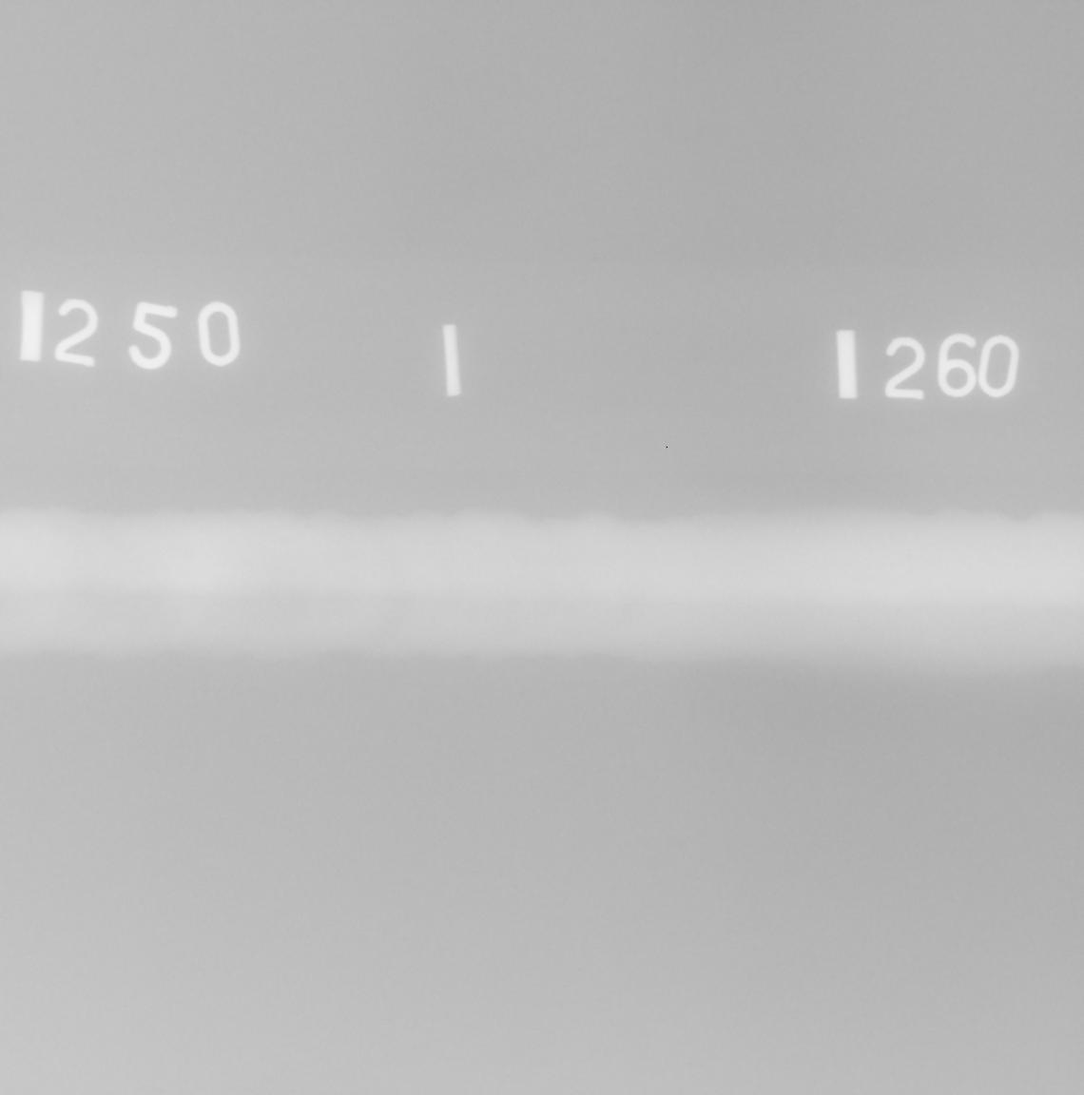Pore/Porosity: (907, 554, 911, 559), (896, 608, 900, 611)
